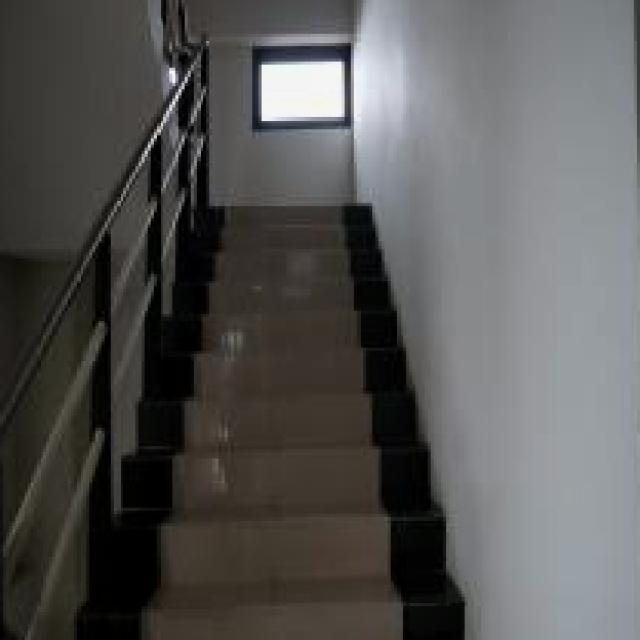upstair: (207, 210, 478, 640)
